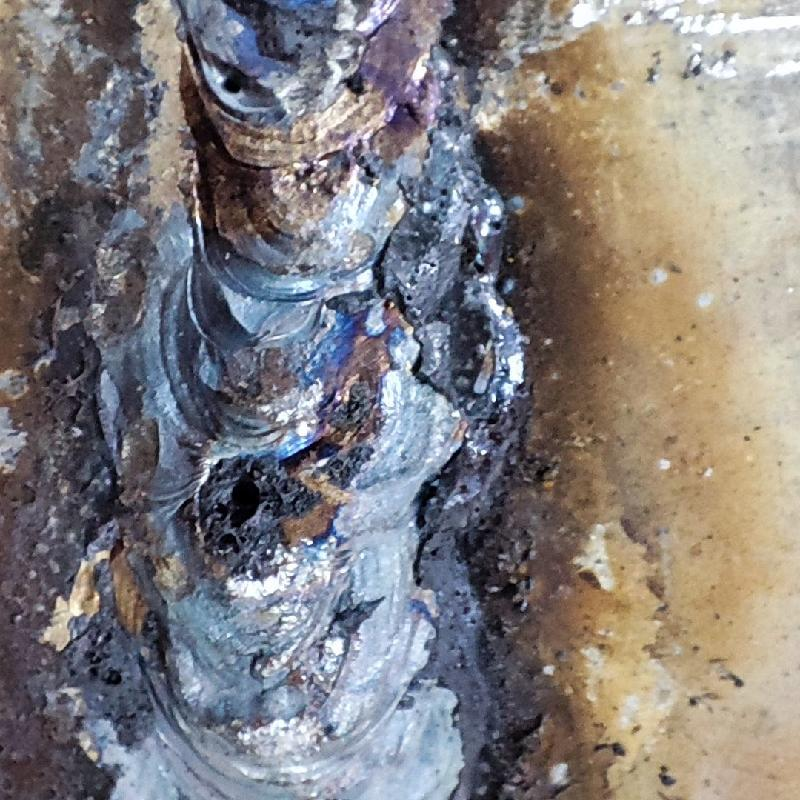Surface_pores: (202, 445, 295, 558), (205, 59, 259, 109)
